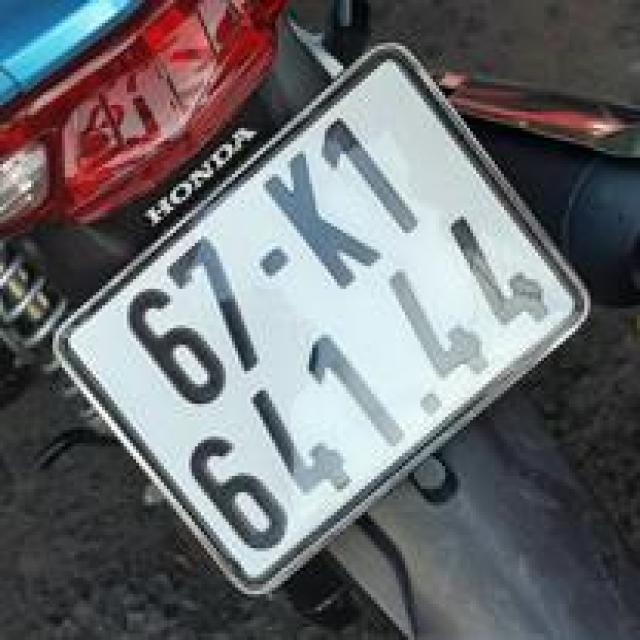1: (306, 100, 442, 255), (296, 314, 421, 461)
4: (440, 195, 567, 356), (375, 243, 504, 401), (234, 365, 361, 516)
6: (107, 270, 239, 419), (172, 421, 301, 563)
7: (157, 222, 289, 385)
K: (251, 142, 395, 306)
